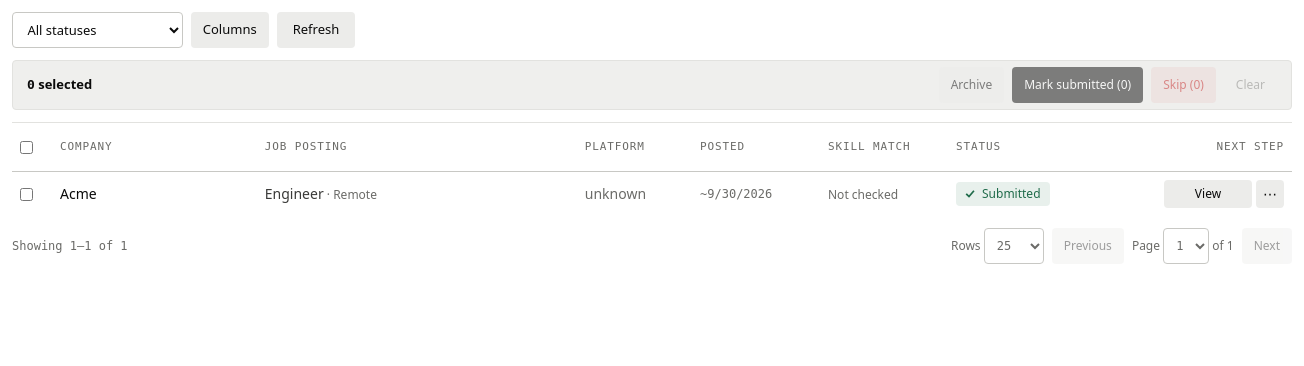
Test: ApplicationsTable actions › offers undo for active submitted
This screenshot has width=1304, height=366.
Click the button named "More actions for Acme Engineer" at (1270, 194), box [1256, 180, 1284, 208]
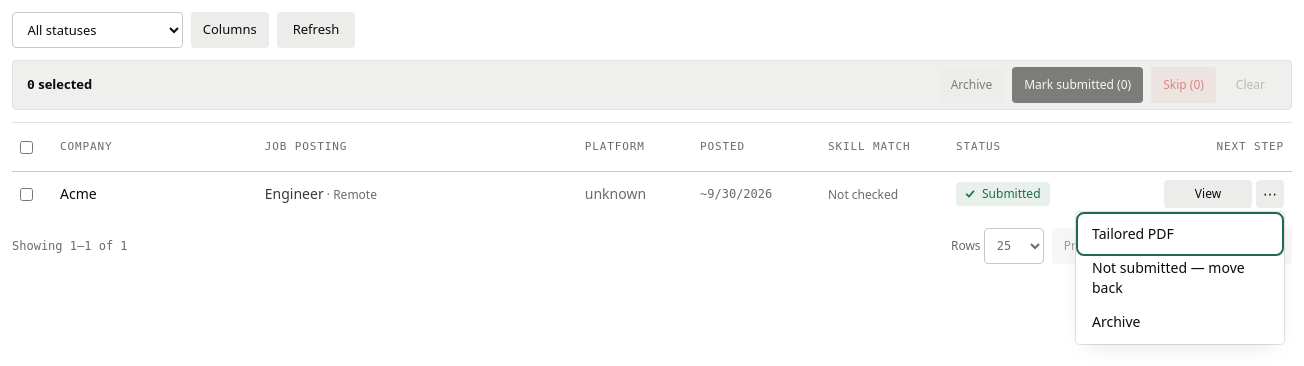
expect the menu item "Not submitted — move back" is shown: met, box [1080, 252, 1280, 304]
